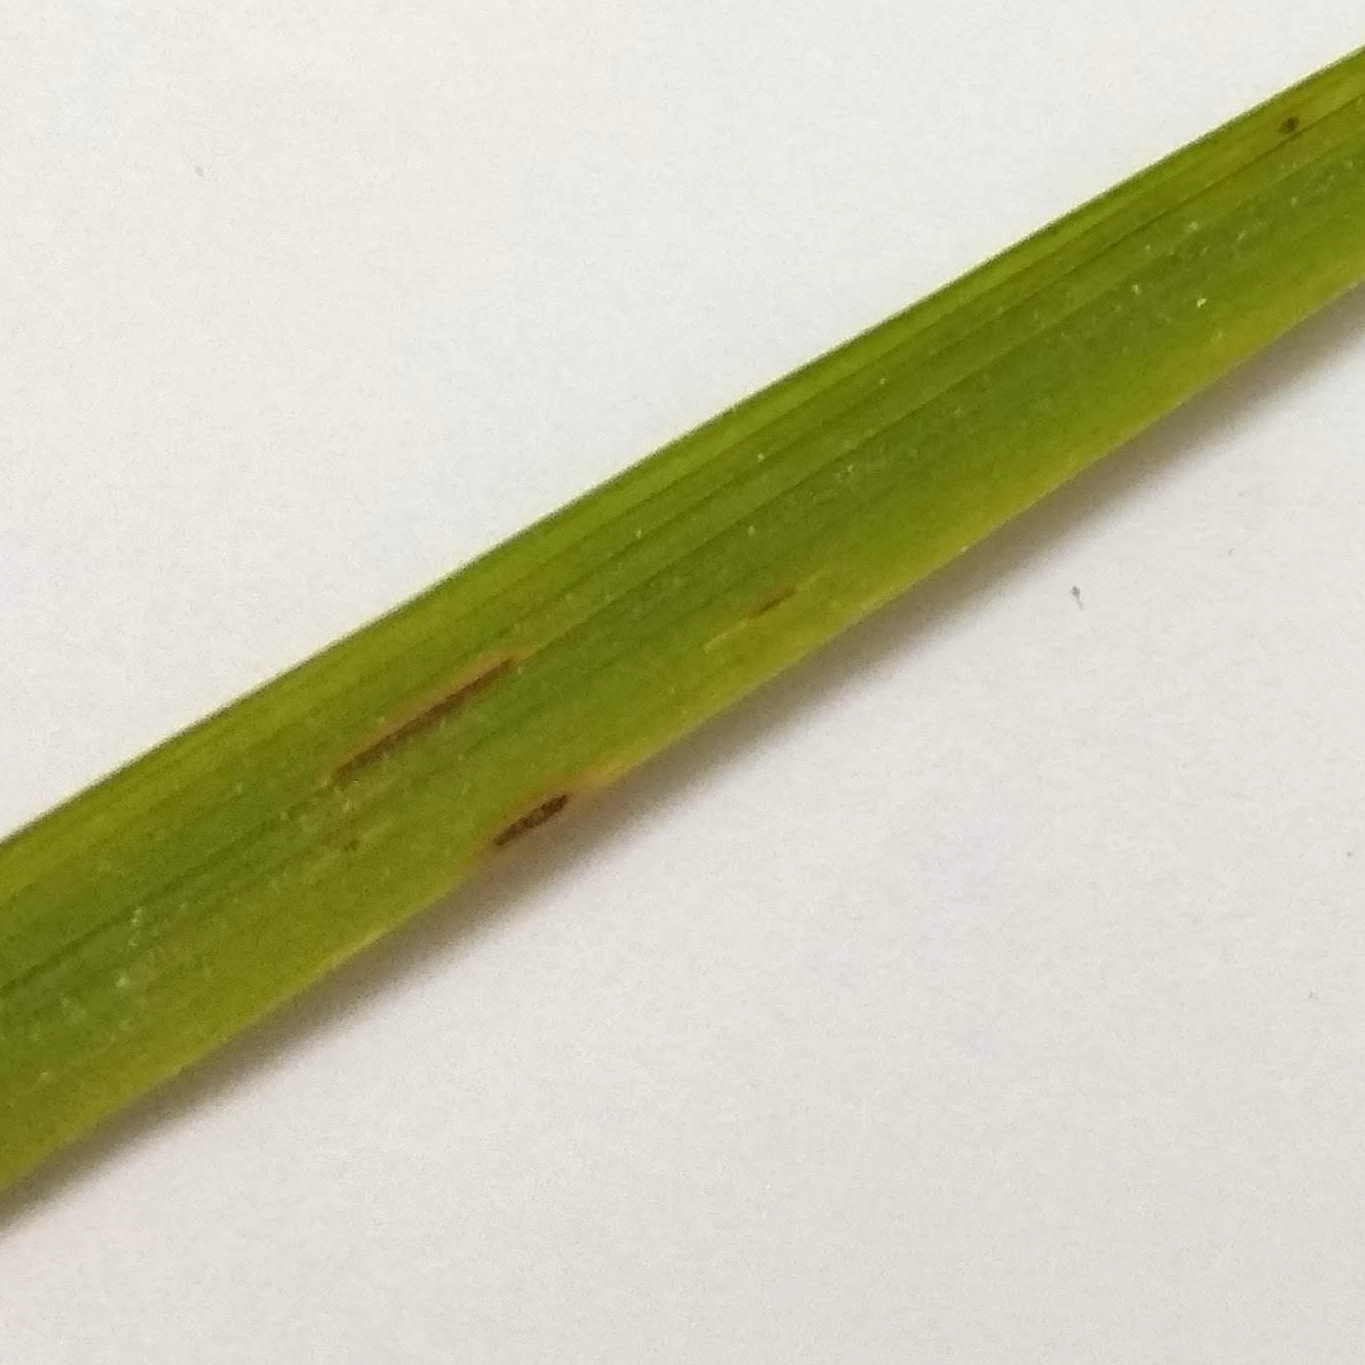brown spot: (327, 644, 521, 799), (482, 782, 582, 866), (737, 581, 805, 620), (1274, 107, 1312, 140)
